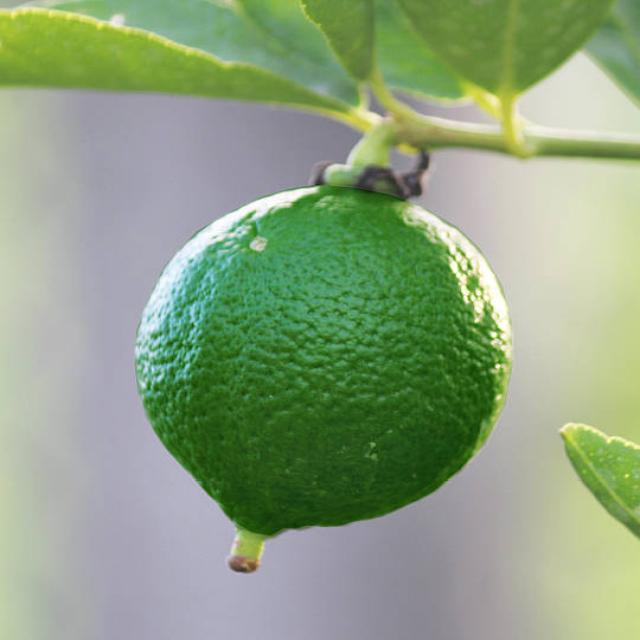Unripe: (135, 179, 514, 534)
